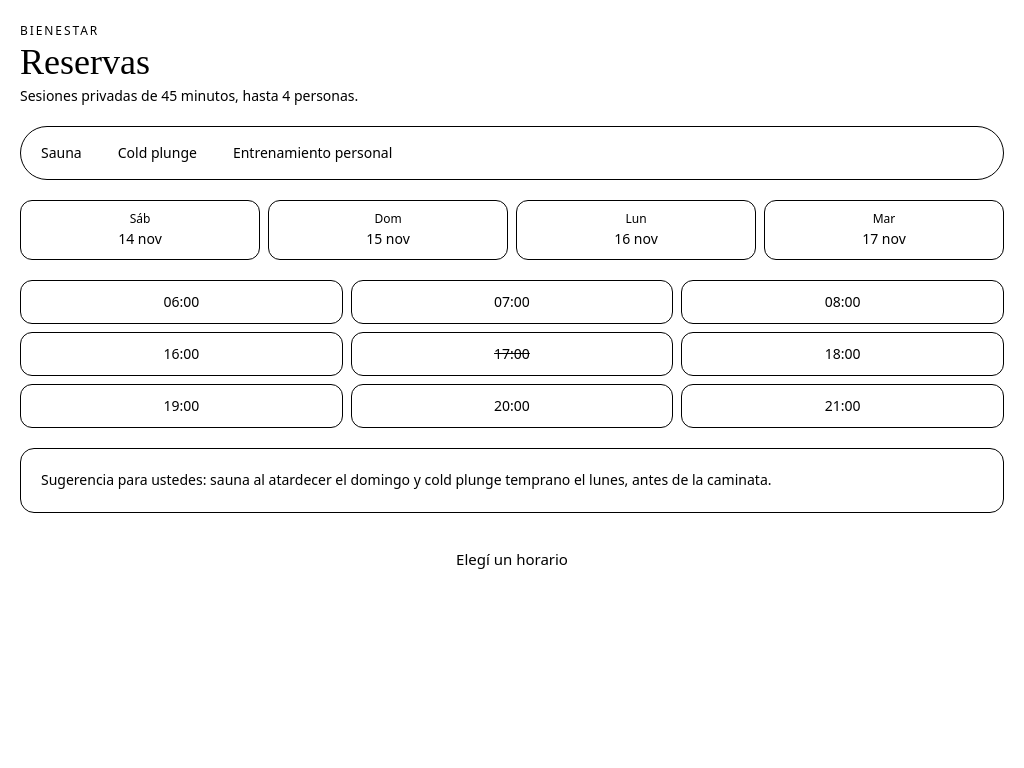
Test: servicios agregados desde admin › aparecen como una opción más, con su precio
Click the radio button labelled "Entrenamiento personal": (313, 153) [217,131,408,175]
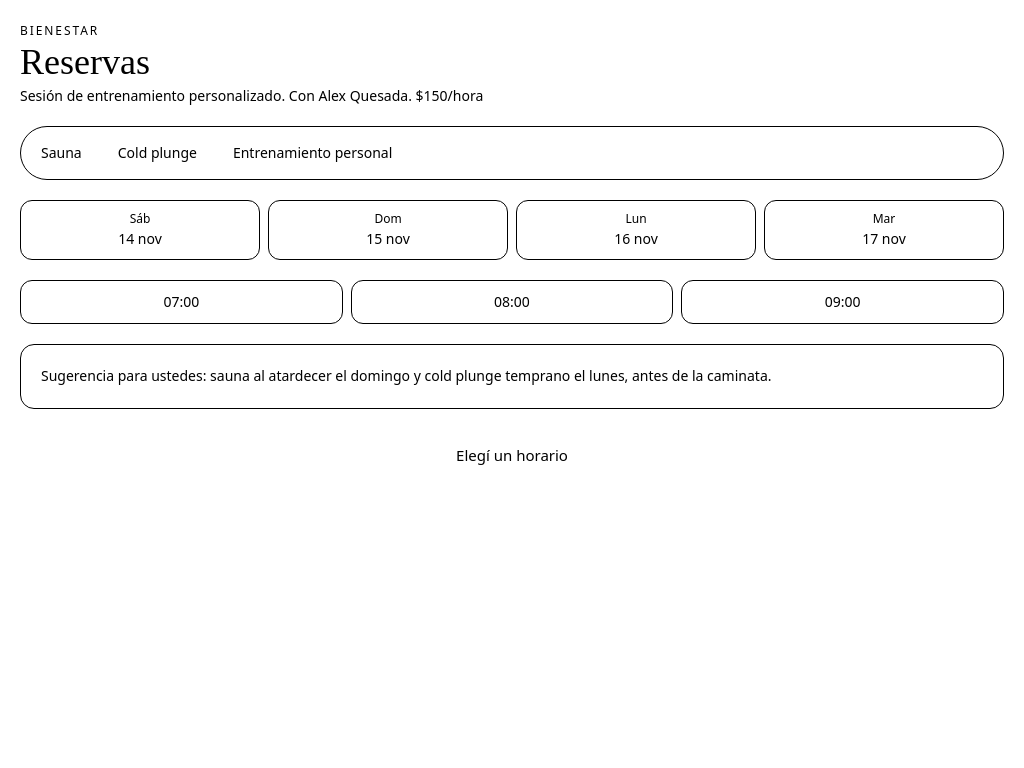
Expected: the text "$150/hora" is shown, [20,86,483,105]
